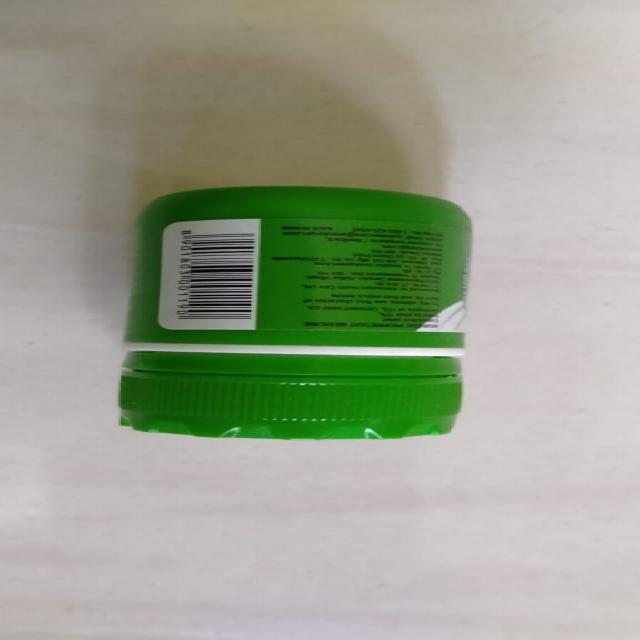eucalyptus oil: (119, 189, 480, 445)
